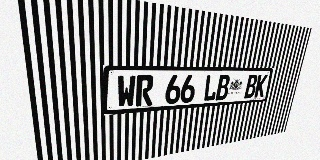6: (165, 75, 182, 104), (180, 75, 197, 103)
B: (215, 75, 231, 101), (244, 75, 258, 98)
K: (254, 74, 268, 98)
L: (203, 75, 219, 101)
R: (136, 75, 154, 106)
W: (117, 75, 136, 108)
